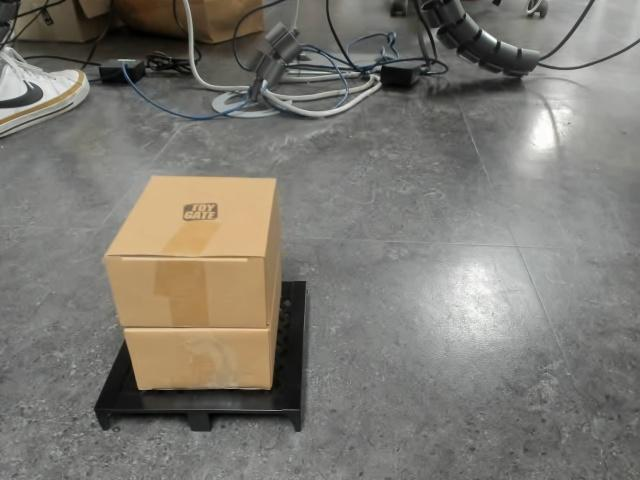box: (95, 176, 309, 434)
